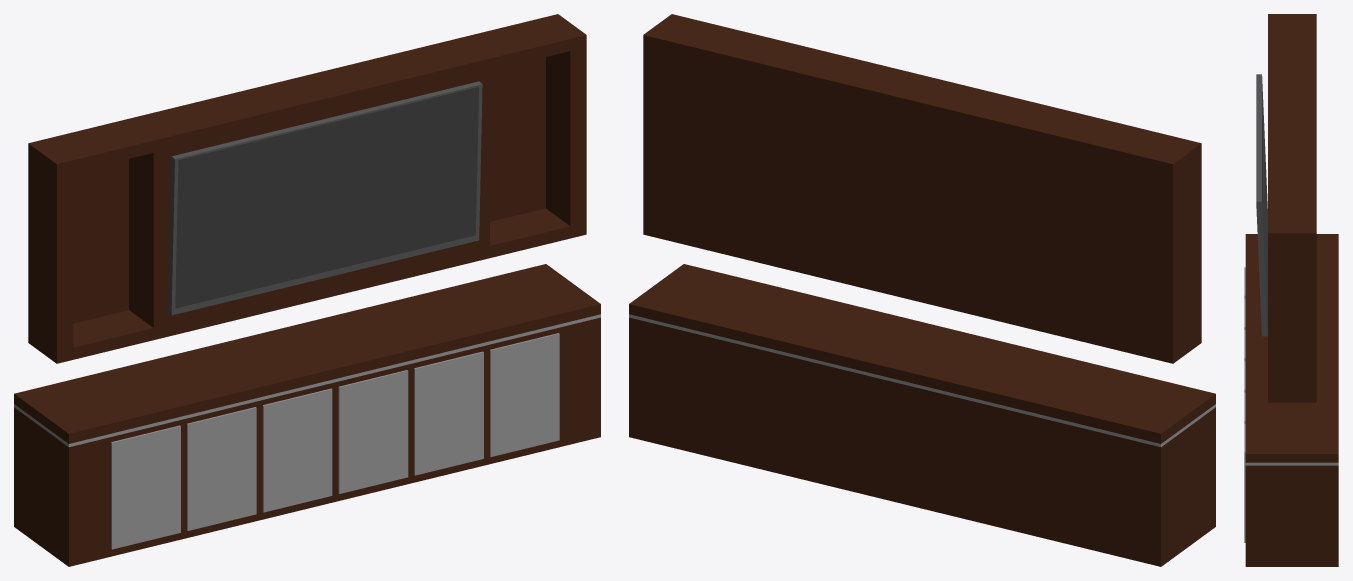
File: tvShelf.fbx
3 views of the same model, side by side, from view 1: azimuth 30°, elevation 25°; view 2: azimuth 150°, elevation 25°; view 3: azimuth 270°, elevation 25° (orthographic). The views are drawn at different scales.
Visible parts, largest first — view 1: TV Shelf, TV; view 2: TV Shelf; view 3: TV Shelf, TV.
Part boxes in pixels (x1,y1,x2,y2): TV Shelf: (14,14,600,566); TV: (168,81,482,315); TV Shelf: (629,14,1215,566); TV Shelf: (1244,14,1338,566); TV: (1256,74,1267,336).
Size of the model in its own units: 268 by 48.74 by 189.
